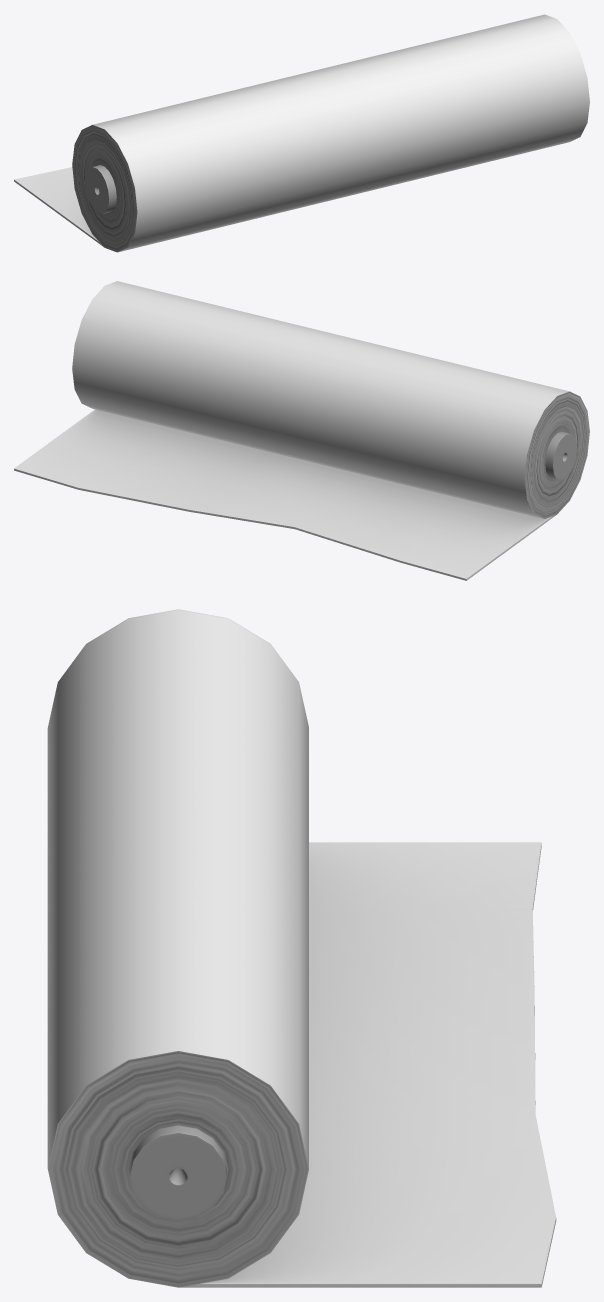
File: Pfb_FabricScroll.fbx
3 views of the same model, one above another, from view 1: azimuth 30°, elevation 25°; view 2: azimuth 150°, elevation 25°; view 3: azimuth 270°, elevation 25° (orthographic). The views are drawn at different scales.
Parts seen in each view (by area): view 1: Mat_FabricScroll_Blue; view 2: Mat_FabricScroll_Blue; view 3: Mat_FabricScroll_Blue.
Part boxes in pixels (x1,y1,x2,y2): Mat_FabricScroll_Blue: [14, 14, 589, 252]; Mat_FabricScroll_Blue: [14, 281, 589, 580]; Mat_FabricScroll_Blue: [47, 609, 556, 1287].
Size of the model in its own units: 2.07 by 0.5 by 0.9729.
1 material, 1 textured.
